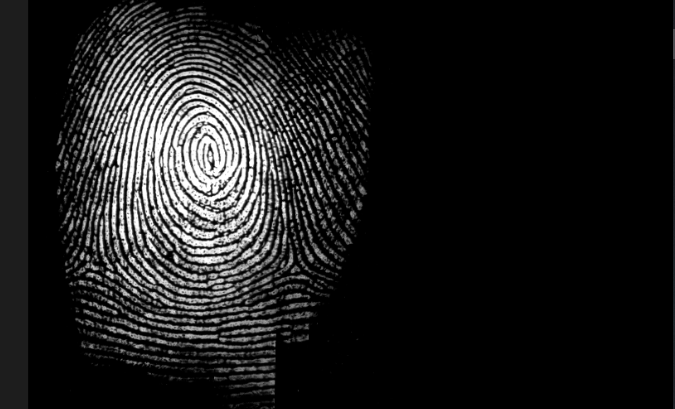nucelo: (194, 128, 224, 180)
verticilo: (277, 246, 304, 276), (72, 249, 100, 272)
